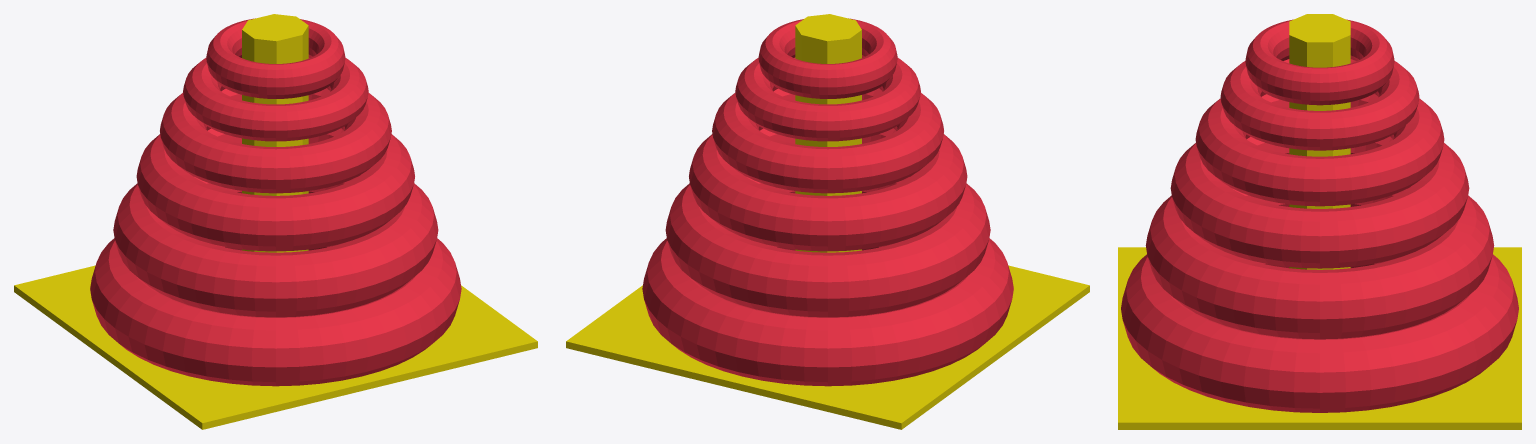
Rendered from ToyRings.fbx.
3 renders of one model, left to right at view 1: azimuth 30°, elevation 25°; view 2: azimuth 150°, elevation 25°; view 3: azimuth 270°, elevation 25°, orthographic. The views are drawn at different scales.
Visible parts, largest first — view 1: Ring, Ring2, Base, ring3, Ring4, Ring5, Ring6; view 2: Ring, Ring2, Base, ring3, Ring4, Ring5, Ring6; view 3: Ring, Ring2, Base, ring3, Ring4, Ring5, Ring6.
Boxes of the visible parts, x1,y1,x2,y2 form: Ring: [90, 238, 461, 386]; Ring2: [113, 177, 438, 317]; Base: [14, 14, 537, 429]; ring3: [136, 128, 414, 251]; Ring4: [160, 88, 391, 193]; Ring5: [183, 57, 368, 141]; Ring6: [206, 18, 345, 98]; Ring: [642, 238, 1013, 386]; Ring2: [665, 177, 990, 317]; Base: [566, 14, 1089, 429]; ring3: [689, 128, 967, 251]; Ring4: [712, 88, 943, 193]; Ring5: [735, 57, 920, 141]; Ring6: [758, 18, 897, 98]; Ring: [1121, 254, 1518, 412]; Ring2: [1145, 188, 1494, 339]; Base: [1118, 14, 1521, 429]; ring3: [1170, 136, 1469, 268]; Ring4: [1195, 94, 1444, 206]; Ring5: [1220, 59, 1419, 150]; Ring6: [1245, 19, 1394, 105].
Size of the model in its own units: 1043 by 877 by 1014.
